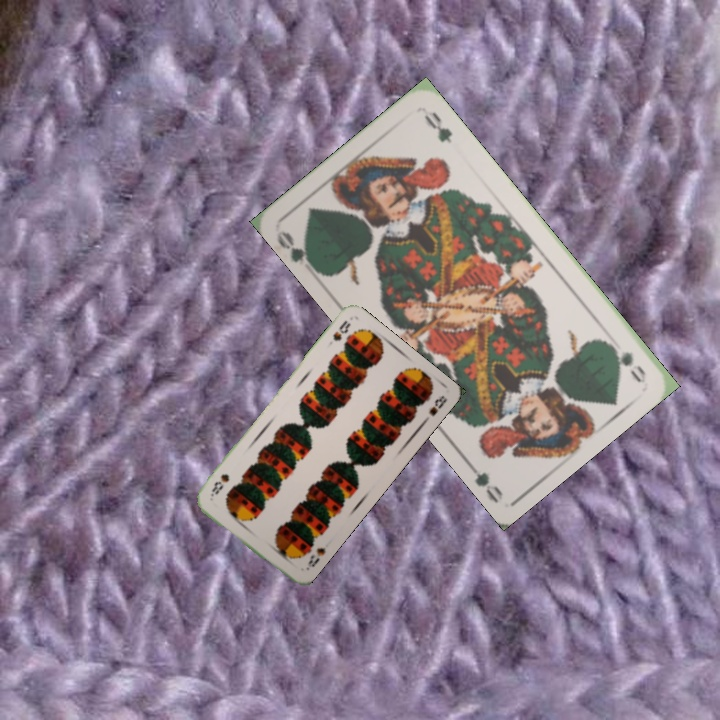GO: (272, 227, 320, 275), (601, 337, 649, 381)
S8: (302, 543, 328, 573), (329, 316, 353, 344)
